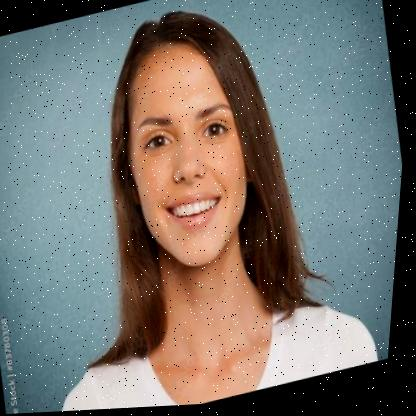person: (0, 0, 412, 415)
